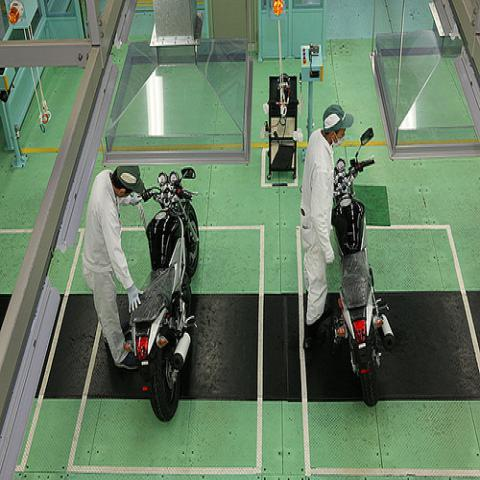motorcycle: (123, 166, 198, 422), (330, 126, 396, 409)
